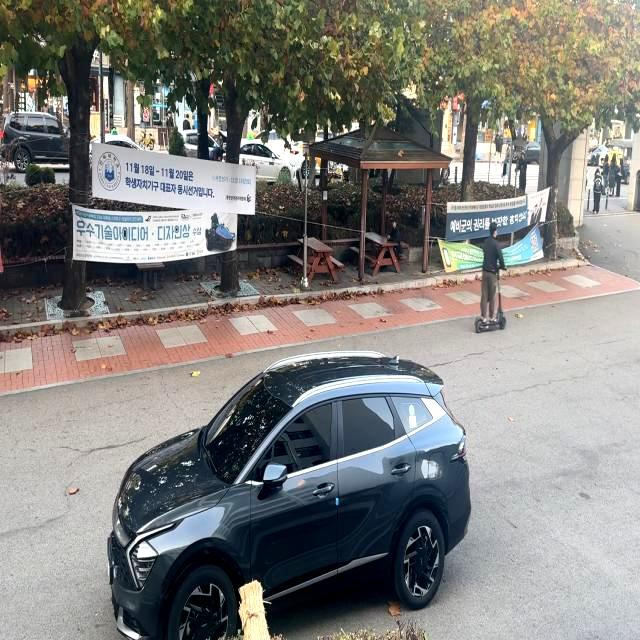bare_head: (483, 220, 503, 240)
human: (479, 216, 496, 318)
kickboard: (469, 313, 522, 336)
